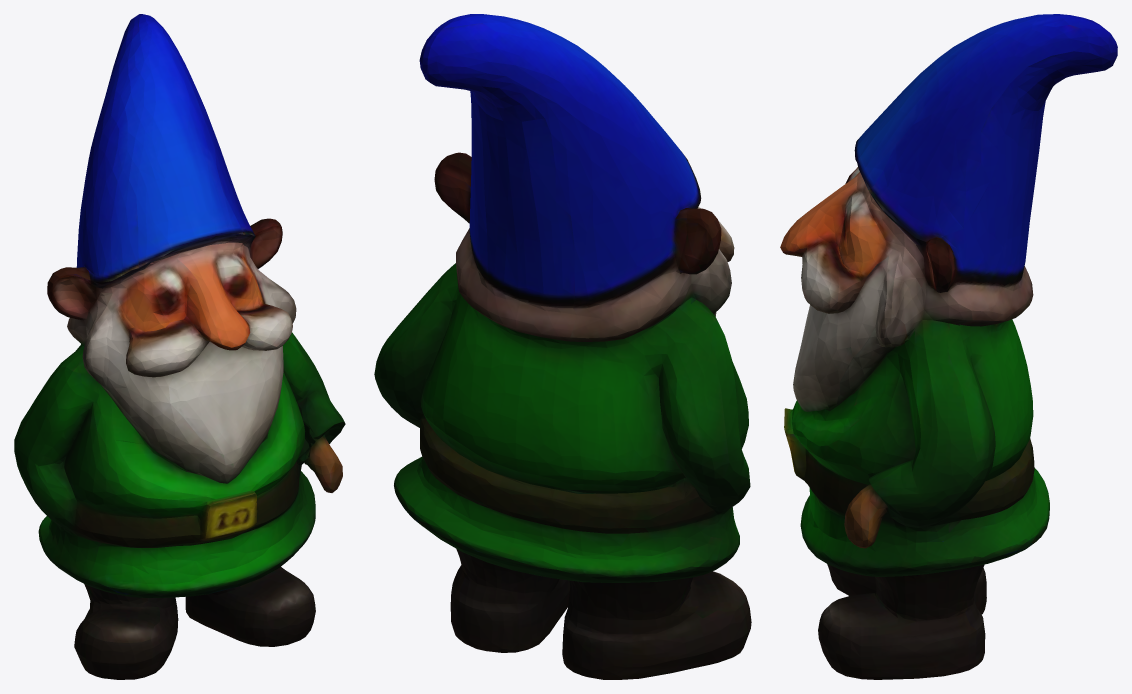
Rendered from gnome2.glb.
3 views of the same model, side by side, from view 1: azimuth 30°, elevation 25°; view 2: azimuth 150°, elevation 25°; view 3: azimuth 270°, elevation 25° (orthographic). The views are drawn at different scales.
Parts seen in each view (by area): view 1: world; view 2: world; view 3: world.
Part boxes in pixels (bbox=[...]): world: bbox=[14, 14, 345, 679]; world: bbox=[374, 14, 751, 679]; world: bbox=[780, 14, 1117, 679].
Bounding box in the file's own units: 0.5534 × 0.9984 × 0.484.
Materials: 1 (1 with a texture image).
